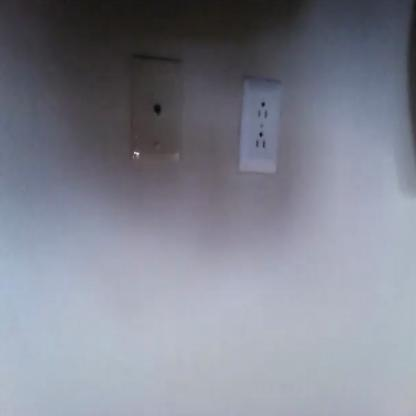OUTLET: (240, 80, 281, 172)
